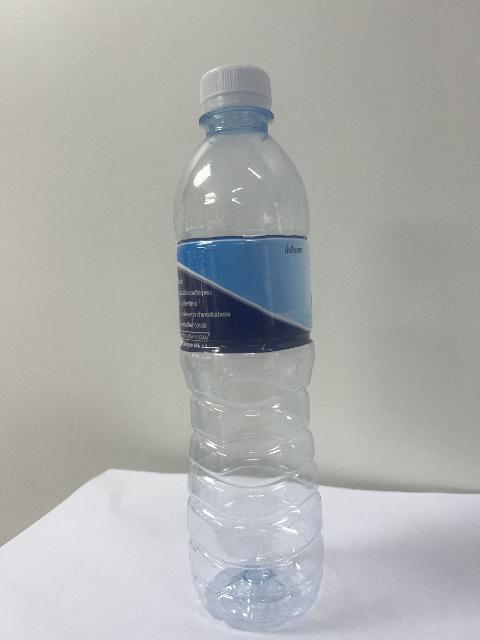bottle: (174, 66, 323, 629)
